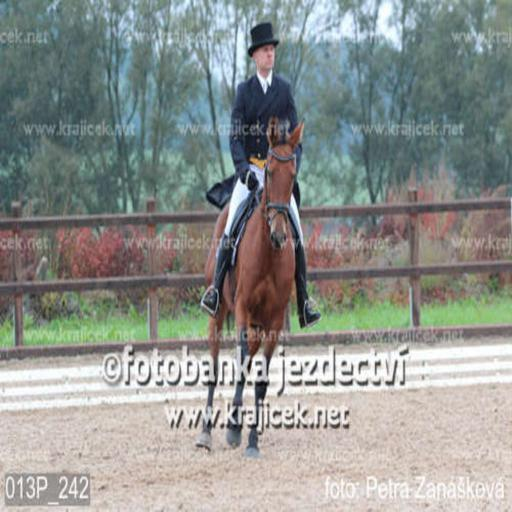horse: (194, 116, 308, 462)
